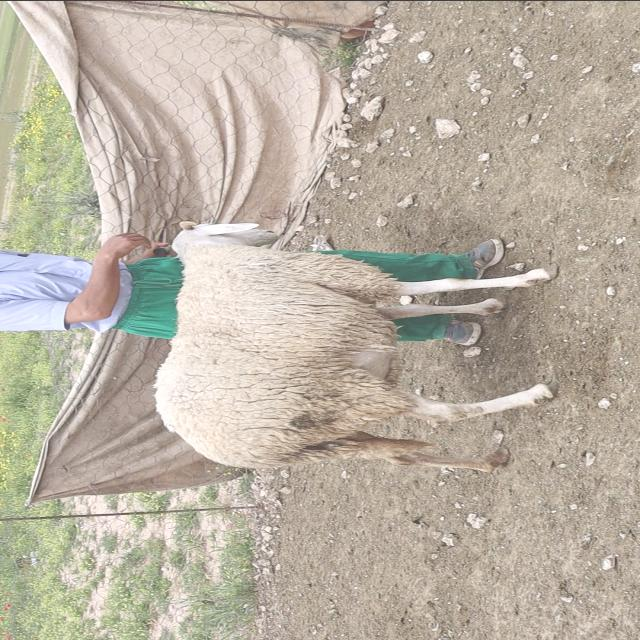Score_5: (155, 221, 555, 471)
